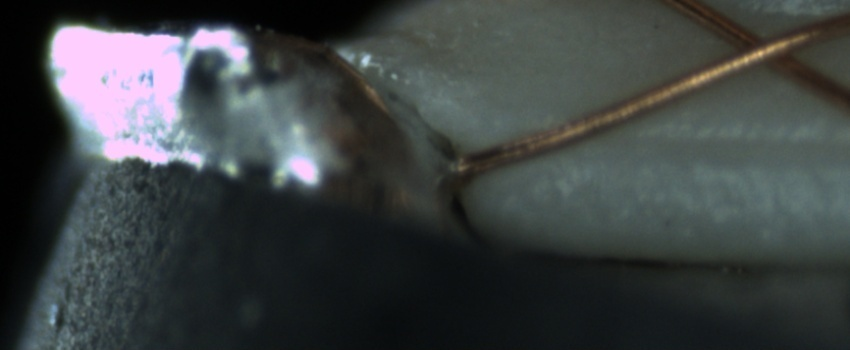CL: (710, 17, 816, 79)
DL: (567, 109, 841, 176)
